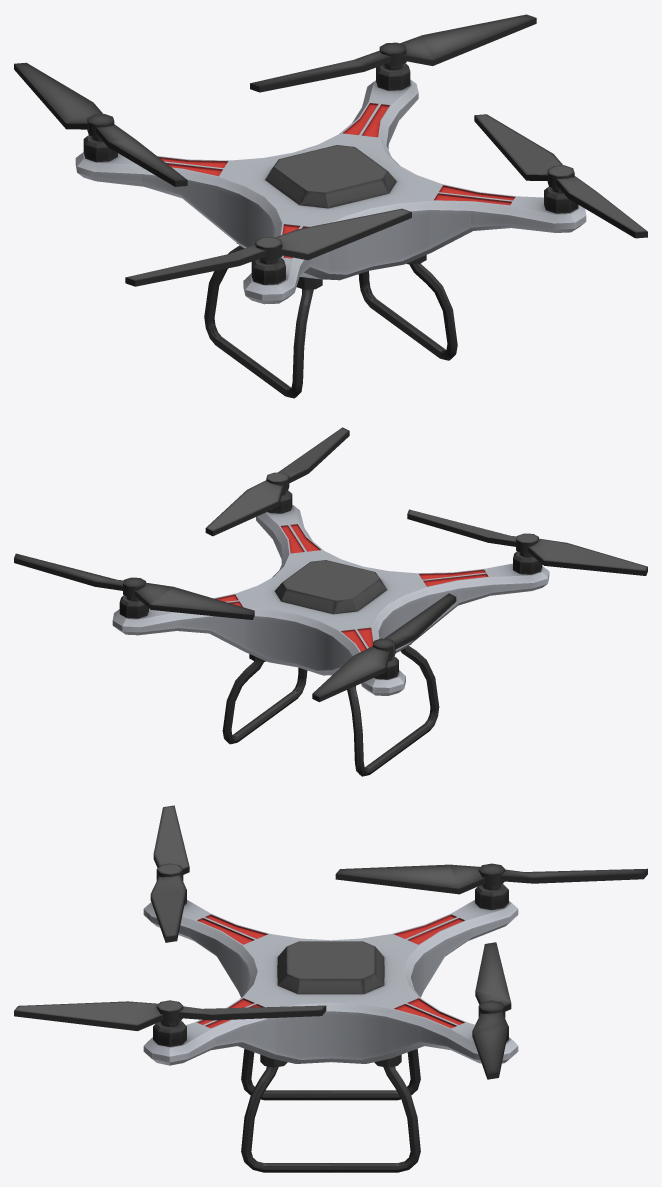
The model's file is Drone3.fbx.
3 views of the same model, one above another, from view 1: azimuth 30°, elevation 25°; view 2: azimuth 150°, elevation 25°; view 3: azimuth 270°, elevation 25° (orthographic). The views are drawn at different scales.
Parts seen in each view (by area): view 1: MainBody, Wing1, Wing3, Wing2, Wing4; view 2: MainBody, Wing3, Wing1, Wing4, Wing2; view 3: MainBody, Wing4, Wing2, Wing3, Wing1.
Boxes of the visible parts, x1,y1,x2,y2 form: MainBody: (75, 63, 586, 398); Wing1: (250, 14, 536, 92); Wing3: (125, 208, 411, 286); Wing2: (14, 62, 187, 186); Wing4: (474, 114, 647, 238); MainBody: (112, 491, 549, 776); Wing3: (407, 509, 647, 575); Wing1: (14, 553, 254, 619); Wing4: (205, 427, 349, 536); Wing2: (312, 593, 456, 702); MainBody: (143, 884, 518, 1172); Wing4: (14, 1000, 326, 1031); Wing2: (335, 863, 647, 894); Wing3: (150, 805, 189, 942); Wing1: (472, 942, 511, 1079).
Bounding box in the file's own units: 387 × 133 × 386.
1 material, 1 textured.
